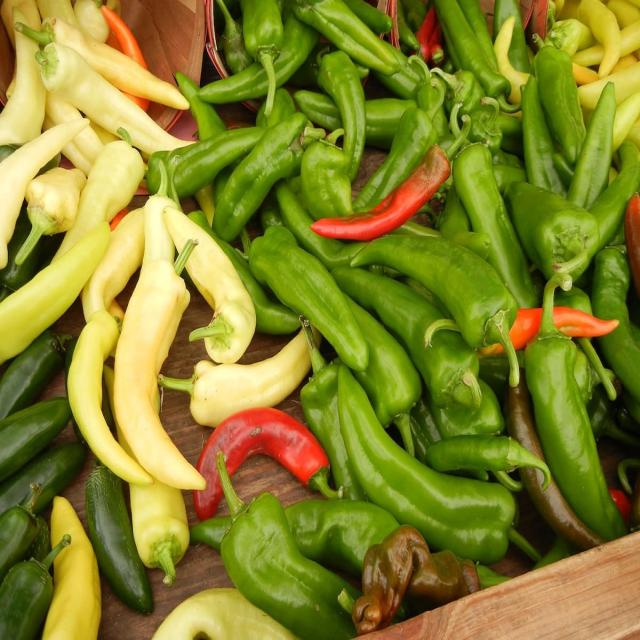Chilli Pepper: (293, 338, 535, 583), (334, 194, 542, 370), (435, 115, 577, 361), (200, 432, 368, 638), (505, 270, 627, 550), (296, 89, 477, 274), (13, 19, 202, 169), (112, 215, 211, 493), (233, 199, 375, 381), (3, 115, 158, 281), (281, 0, 464, 123), (335, 519, 501, 640), (427, 284, 622, 386), (187, 396, 361, 506), (67, 432, 164, 622), (211, 107, 345, 238), (524, 11, 621, 174), (414, 388, 542, 492), (128, 98, 269, 190), (1, 380, 95, 516), (298, 48, 386, 192), (426, 0, 534, 105), (36, 483, 108, 640), (219, 2, 313, 114)
